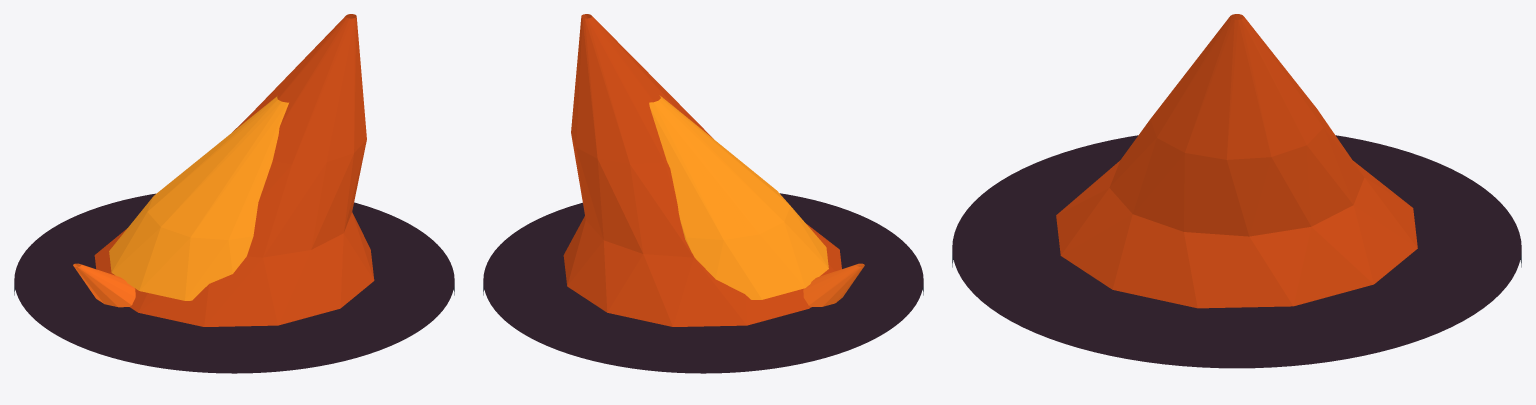
3 renders of one model, left to right at view 1: azimuth 30°, elevation 25°; view 2: azimuth 150°, elevation 25°; view 3: azimuth 270°, elevation 25°, orthographic. The views are drawn at different scales.
Bounding box in the file's own units: 3.2 × 2.03 × 3.2.
Materials: 6 (6 with a texture image).
